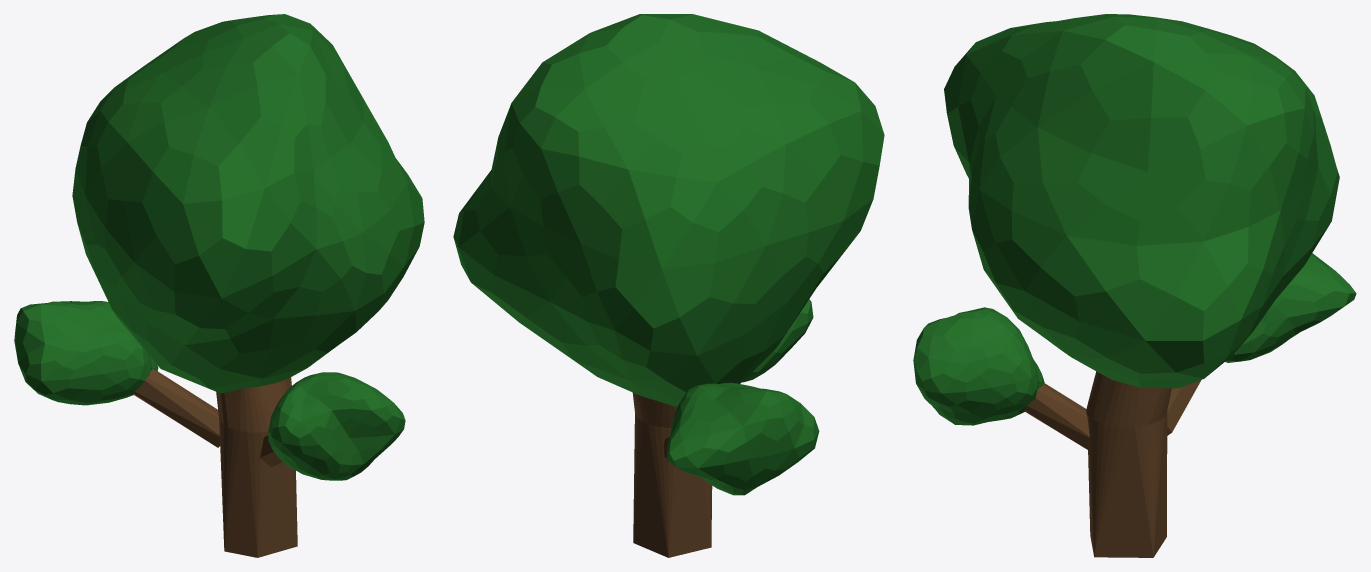
Rendered from tree3.fbx.
3 views of the same model, side by side, from view 1: azimuth 30°, elevation 25°; view 2: azimuth 150°, elevation 25°; view 3: azimuth 270°, elevation 25° (orthographic). The views are drawn at different scales.
Parts seen in each view (by area): view 1: Icosphere, Icosphere.001, Cylinder, Icosphere_LOD0, Icosphere.002, Cylinder.002; view 2: Icosphere, Icosphere_LOD0, Icosphere.002, Cylinder, Icosphere.001; view 3: Icosphere, Icosphere_LOD0, Cylinder, Icosphere.001, Cylinder.001, Icosphere.002.
Boxes of the visible parts, x1=… form: Icosphere: x1=72, y1=14, x2=424, y2=393; Icosphere.001: x1=268, y1=372, x2=405, y2=480; Cylinder: x1=216, y1=377, x2=297, y2=557; Icosphere_LOD0: x1=16, y1=301, x2=403, y2=547; Icosphere.002: x1=14, y1=301, x2=158, y2=405; Cylinder.002: x1=133, y1=369, x2=220, y2=447; Icosphere: x1=453, y1=14, x2=884, y2=406; Icosphere_LOD0: x1=633, y1=312, x2=818, y2=557; Icosphere.002: x1=667, y1=385, x2=819, y2=495; Cylinder: x1=632, y1=392, x2=712, y2=518; Icosphere.001: x1=748, y1=299, x2=813, y2=380; Icosphere: x1=944, y1=14, x2=1339, y2=388; Icosphere_LOD0: x1=923, y1=253, x2=1356, y2=557; Cylinder: x1=1086, y1=373, x2=1170, y2=557; Icosphere.001: x1=913, y1=307, x2=1023, y2=425; Cylinder.001: x1=1024, y1=383, x2=1089, y2=449; Icosphere.002: x1=1225, y1=293, x2=1356, y2=362.
Size of what is drawn, in the model's own units: 1101 by 1457 by 1093.
